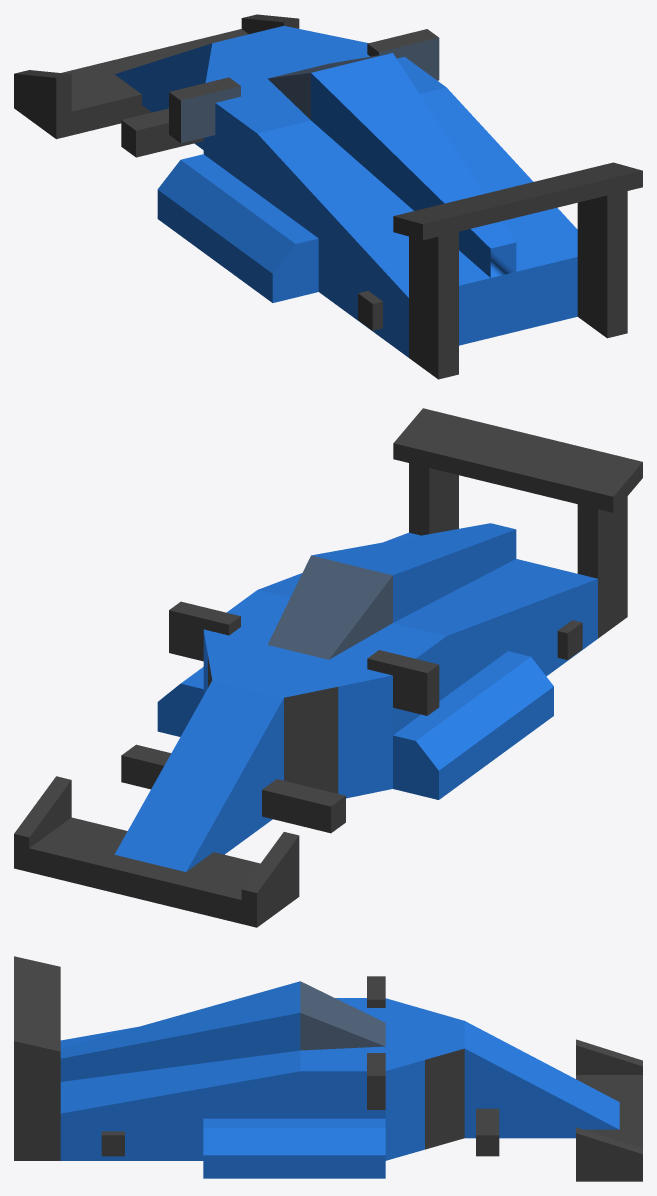
File: SM_Racecar.fbx
3 renders of one model, top to bottom at view 1: azimuth 30°, elevation 25°; view 2: azimuth 150°, elevation 25°; view 3: azimuth 270°, elevation 25°, orthographic. The views are drawn at different scales.
Visible parts, largest first — view 1: SM_Racecar; view 2: SM_Racecar; view 3: SM_Racecar.
Part boxes in pixels (box(x1,y1,x2,y2)): SM_Racecar: box(14, 14, 642, 379); SM_Racecar: box(14, 408, 642, 927); SM_Racecar: box(14, 956, 642, 1181).
Size of the model in its own units: 0.66 by 0.3906 by 1.62.
